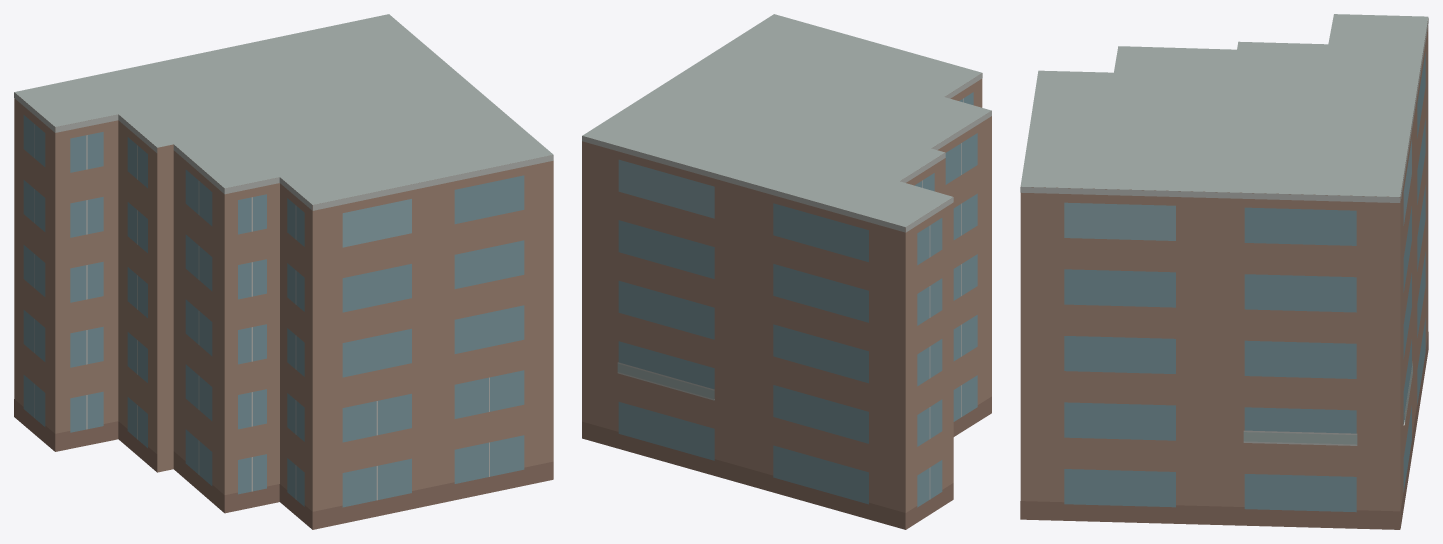
The model's file is survey-upis-32715608.glb.
3 views of the same model, side by side, from view 1: azimuth 30°, elevation 25°; view 2: azimuth 150°, elevation 25°; view 3: azimuth 270°, elevation 25° (orthographic). The views are drawn at different scales.
Parts seen in each view (by area): view 1: survey-upis-32715608.tmp; view 2: survey-upis-32715608.tmp; view 3: survey-upis-32715608.tmp.
Boxes of the visible parts, box(x1,y1,x2,y2) form: survey-upis-32715608.tmp: box(14, 14, 553, 529); survey-upis-32715608.tmp: box(582, 14, 991, 529); survey-upis-32715608.tmp: box(1020, 14, 1428, 529).
Size of the model in its own units: 15.94 by 13.5 by 15.01.
